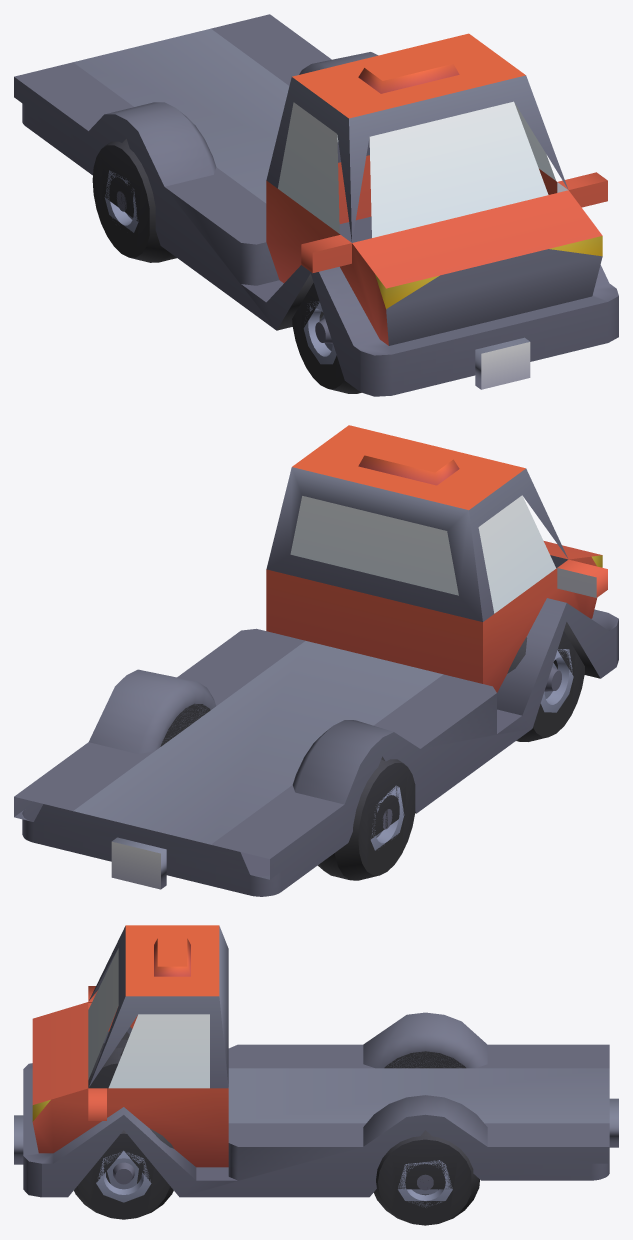
Rendered from cart.glb.
3 views of the same model, one above another, from view 1: azimuth 30°, elevation 25°; view 2: azimuth 150°, elevation 25°; view 3: azimuth 270°, elevation 25° (orthographic). The views are drawn at different scales.
Visible parts, largest first — view 1: wheel-back-left; view 2: wheel-back-left; view 3: wheel-back-left.
Boxes of the visible parts, box(x1,y1,x2,y2) form: wheel-back-left: box(14, 14, 618, 396); wheel-back-left: box(14, 425, 618, 896); wheel-back-left: box(14, 925, 618, 1225).
Size of the model in its own units: 1.5 by 1.35 by 3.25.
1 material, 1 textured.
